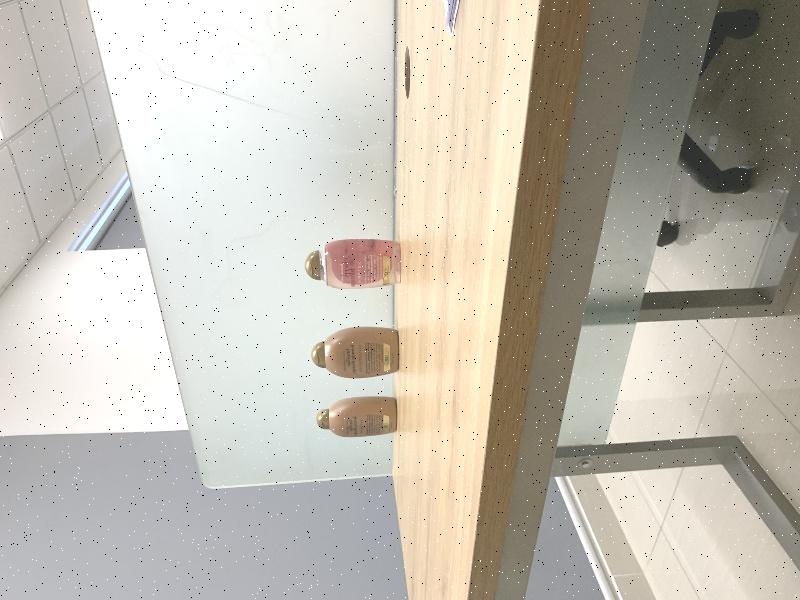BrazilianKeratinTherapy_Shampoo: (317, 396, 397, 438)
BrazilianKerationTherapy_Conditioner: (311, 327, 399, 379)
CherryBlossom_Shampoo: (304, 239, 401, 289)
